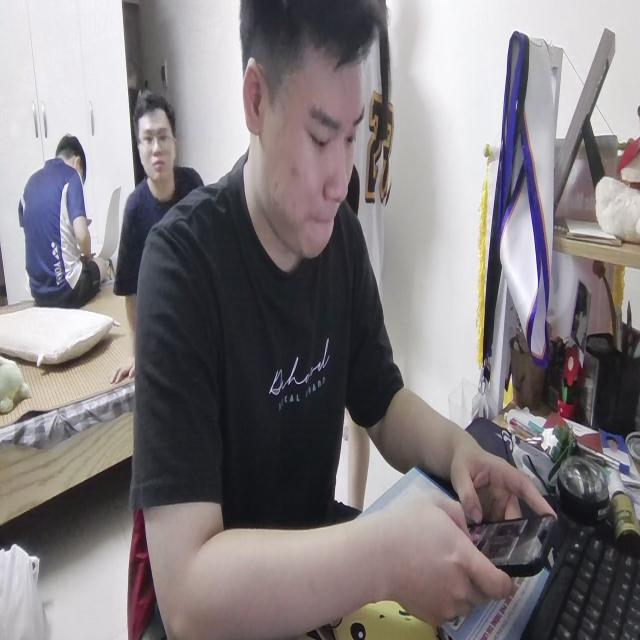extra_person: (120, 92, 209, 289), (15, 134, 99, 322)
phone: (461, 504, 556, 572)
student: (132, 0, 554, 640)
